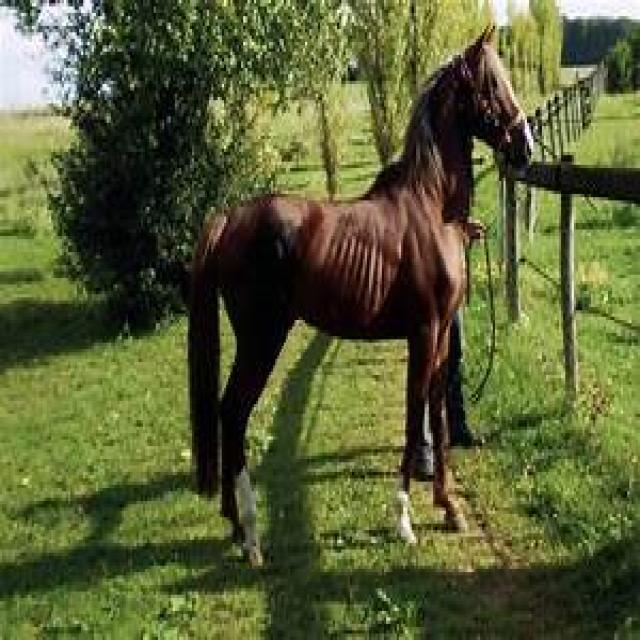horse: (189, 28, 532, 565)
